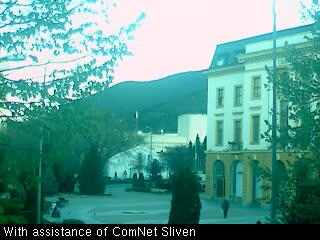person: (222, 199, 230, 218), (256, 220, 263, 224)
